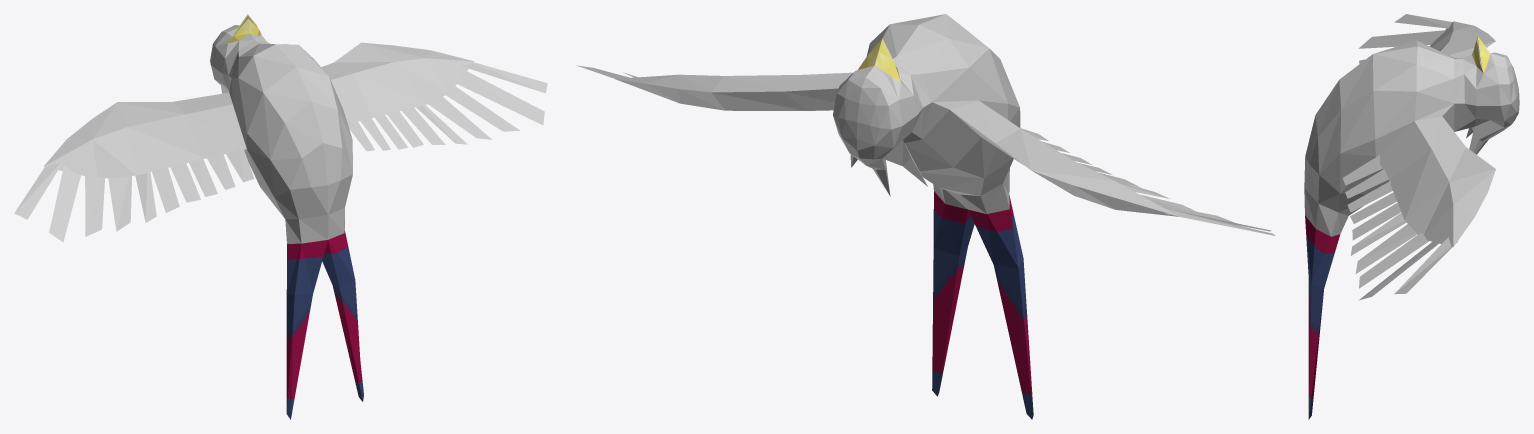
The model's file is BR_Swellow-Shiny01.obj.
3 views of the same model, side by side, from view 1: azimuth 30°, elevation 25°; view 2: azimuth 150°, elevation 25°; view 3: azimuth 270°, elevation 25° (orthographic). The views are drawn at different scales.
Parts seen in each view (by area): view 1: ohsubame; view 2: ohsubame; view 3: ohsubame.
Part boxes in pixels (x1=…): ohsubame: x1=14, y1=14, x2=547, y2=419; ohsubame: x1=577, y1=14, x2=1275, y2=419; ohsubame: x1=1304, y1=14, x2=1519, y2=419.
Size of the model in its own units: 17.83 by 10.85 by 5.8.
